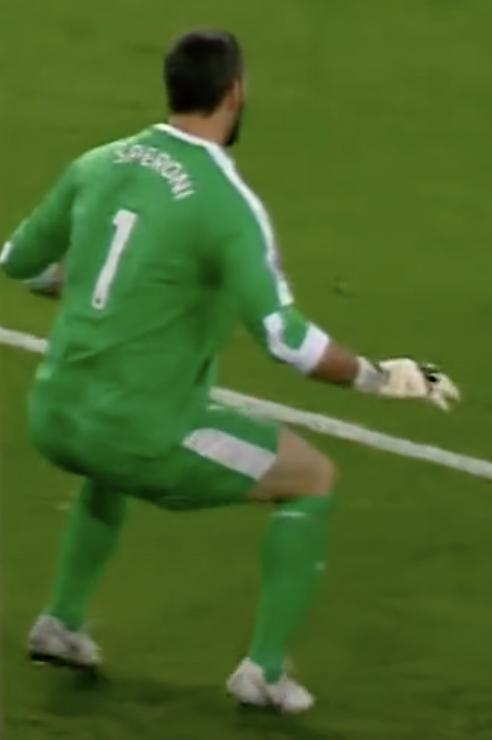goalkeeper: (0, 22, 470, 733)
